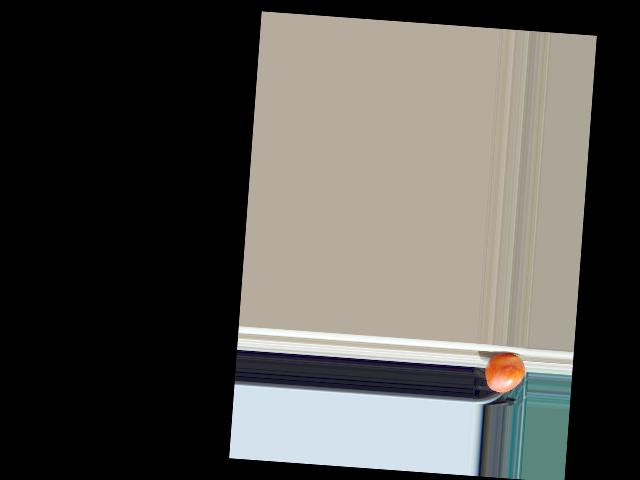tomato: (483, 352, 525, 394)
